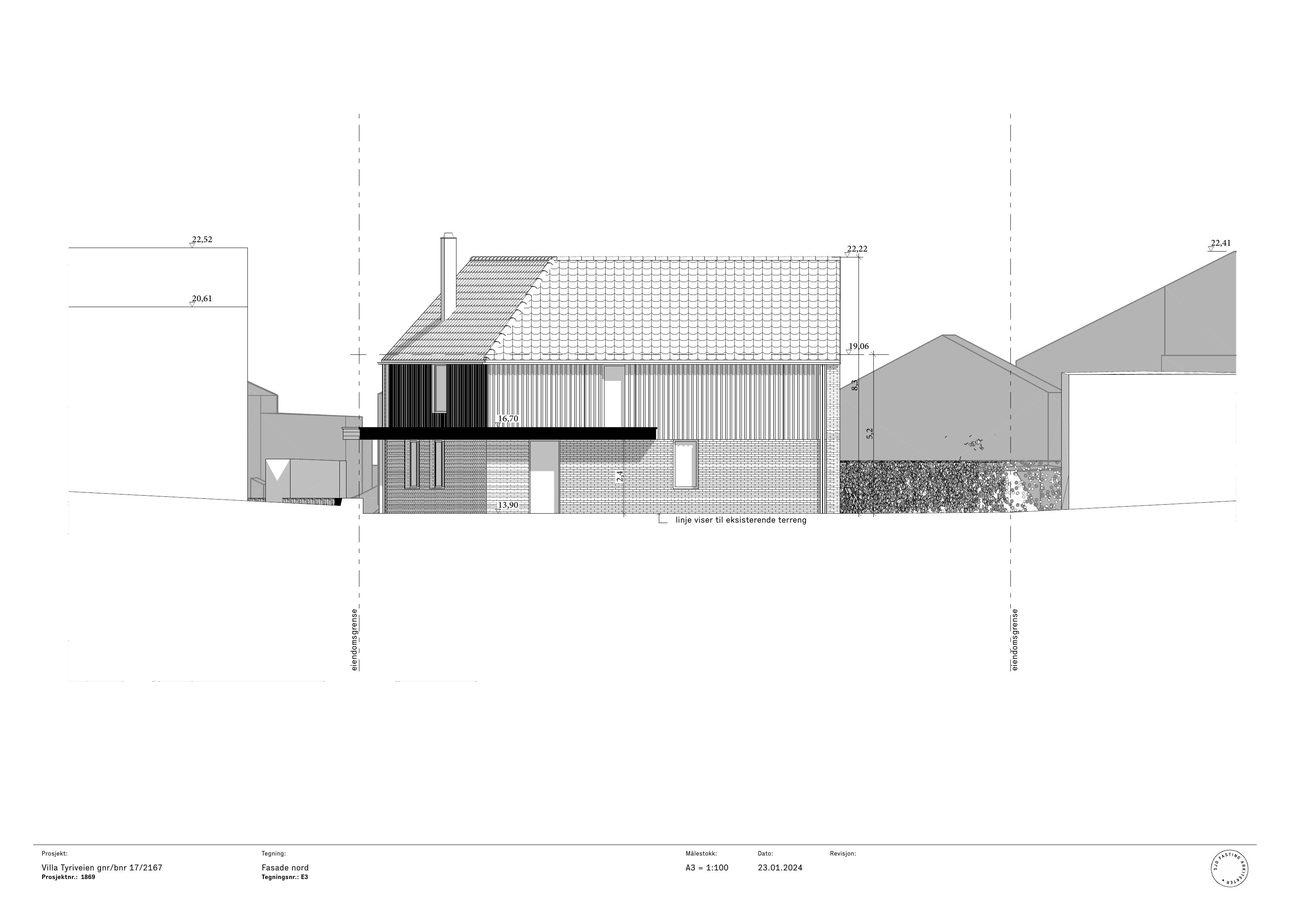fasade: (358, 233, 846, 516)
